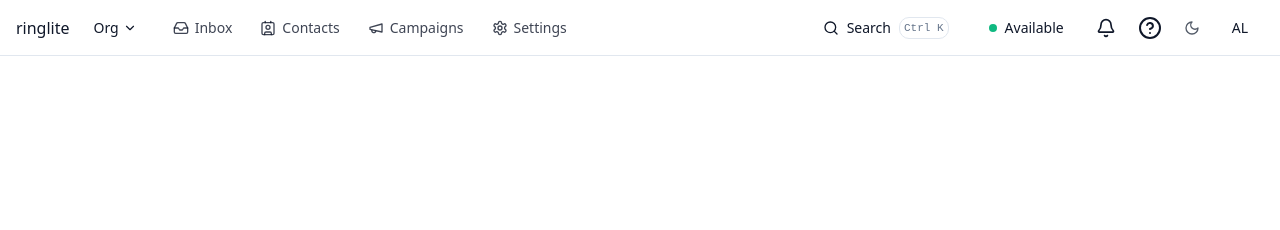
it: TopBar › shows the theme toggle in the bar and sign out in the account menu
Expected: the button named "Switch to the" is shown, [1176,12,1208,44]
Click the button with aria-label "Account" at (1240, 28), box [1216,10,1264,46]
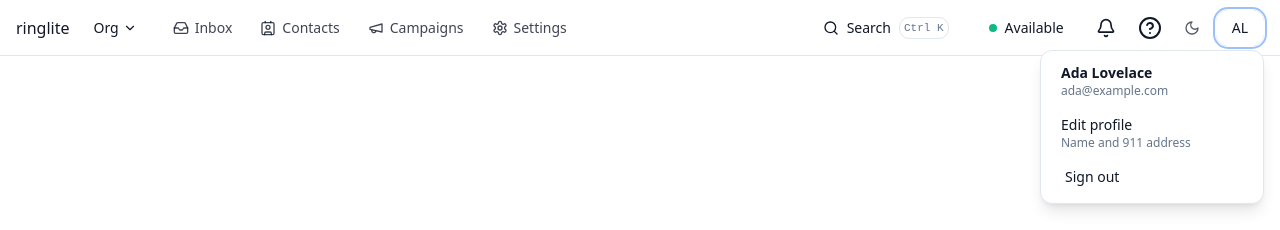
Now the menu item "Sign out" is shown, box [1049,158,1255,194]
Now the menu item "Edit profile Name and 911 address" is shown, box [1061,114,1191,150]
